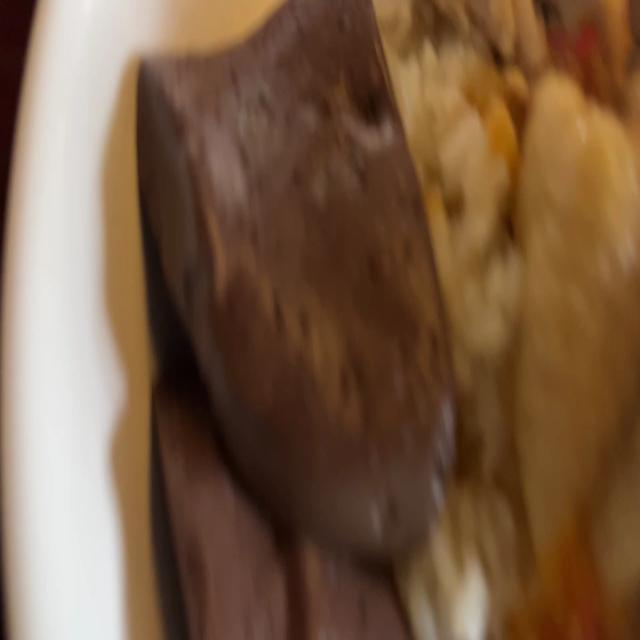boiled_chicken: (519, 4, 640, 620)
boiled_chicken_blood_jelly: (130, 0, 452, 538), (148, 358, 404, 640)
chicken_rice: (101, 0, 640, 640)
